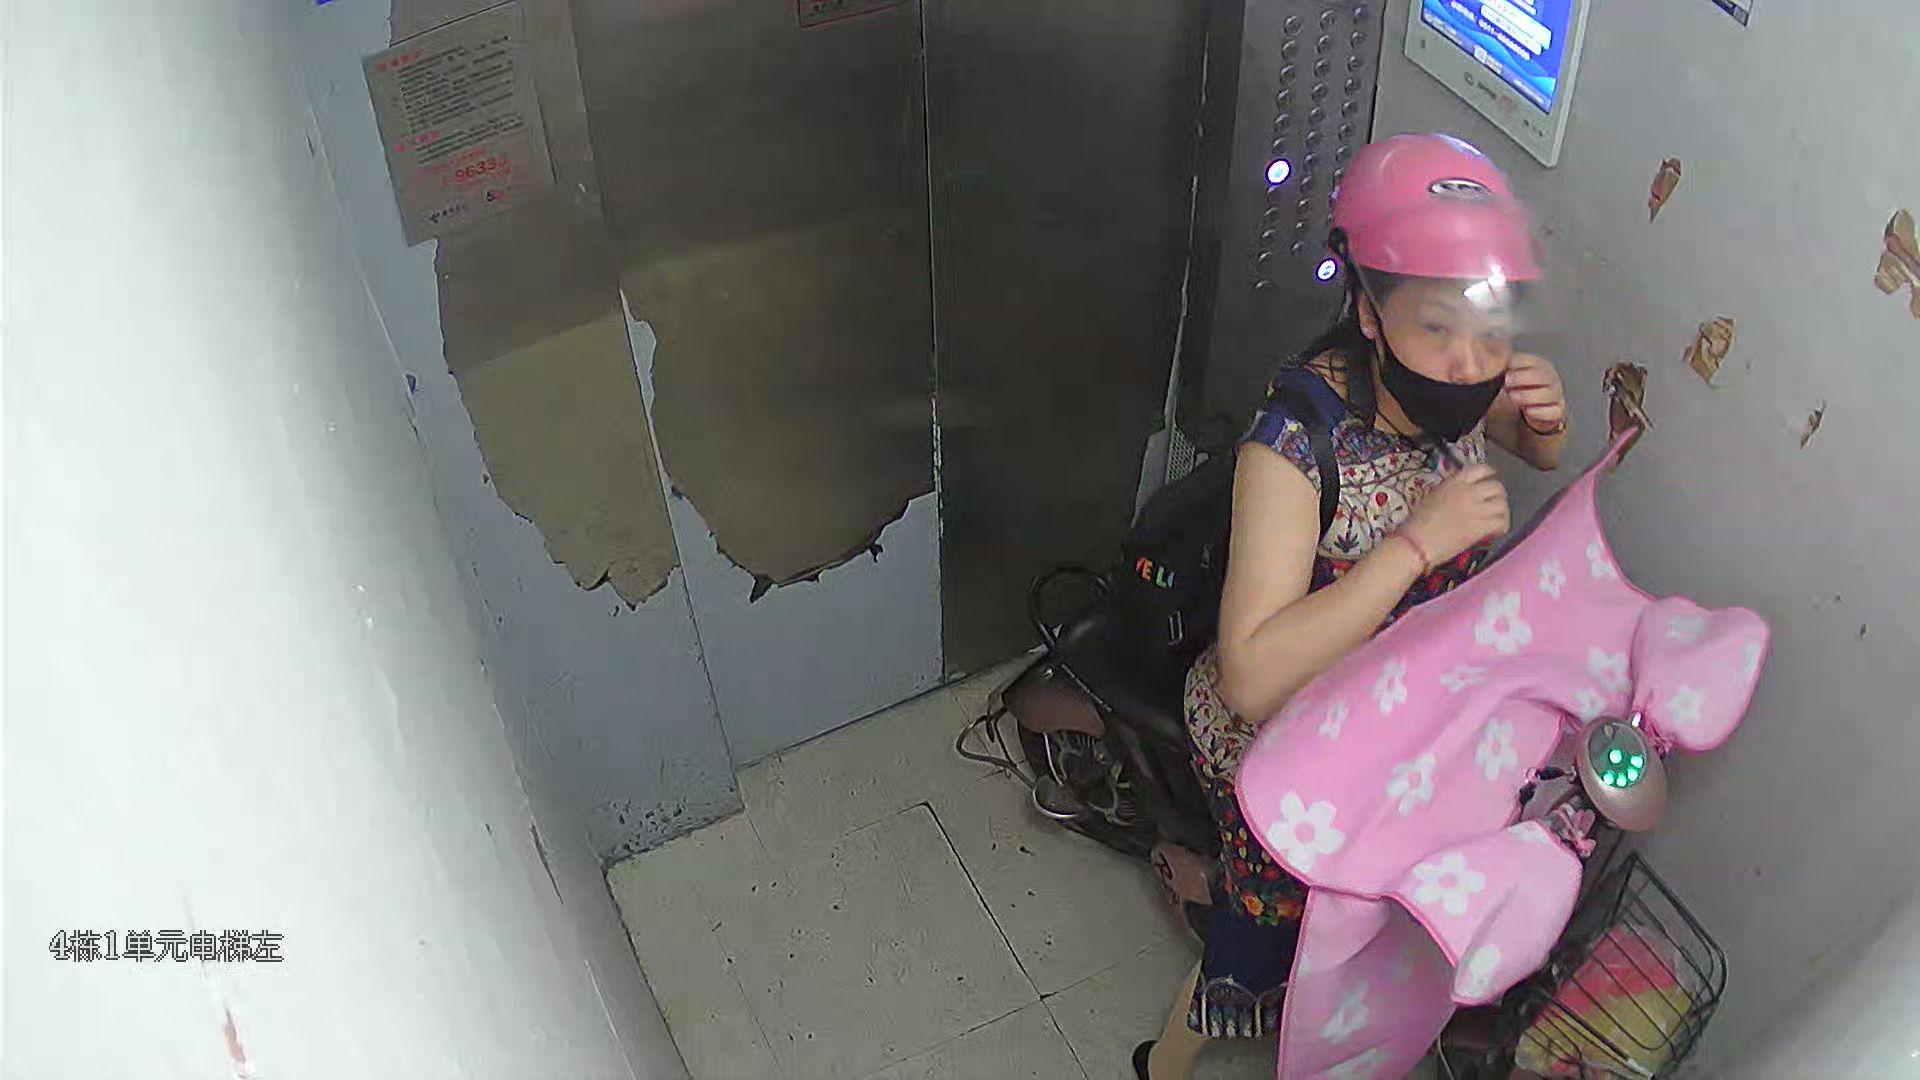Electric-bicycle: (982, 436, 1725, 1080)
